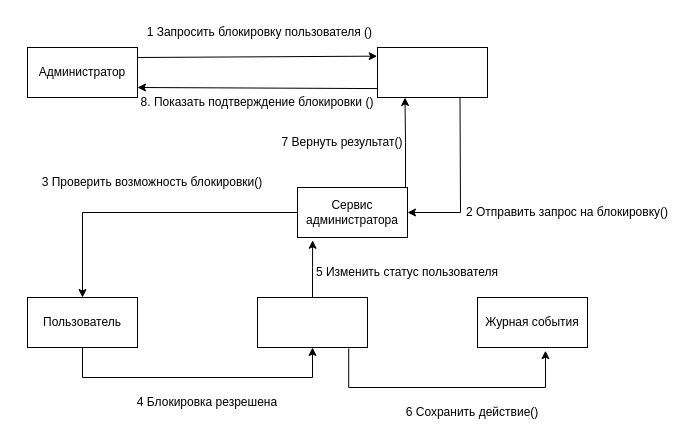
Some shapes in this 694 by 444 pixel diagram are drawn without their labels. The shapes that lost their labels are listed below. From the top down, each one's box as (x1, y1, x2, y2) in pixels, then its label:
(376, 46, 488, 98): Интерфейс
(256, 296, 368, 348): БД
